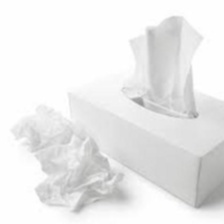book: (64, 63, 224, 211)
tissue: (6, 98, 127, 216), (117, 12, 208, 121)
